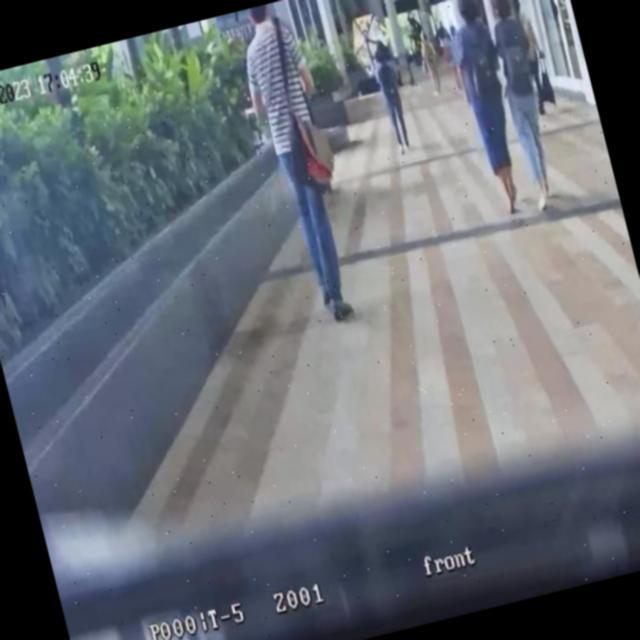person: (228, 0, 371, 327), (438, 0, 535, 221), (478, 0, 571, 212), (509, 0, 560, 122), (370, 39, 417, 155), (434, 21, 464, 93), (416, 29, 446, 98), (402, 46, 418, 86), (448, 23, 458, 42)
